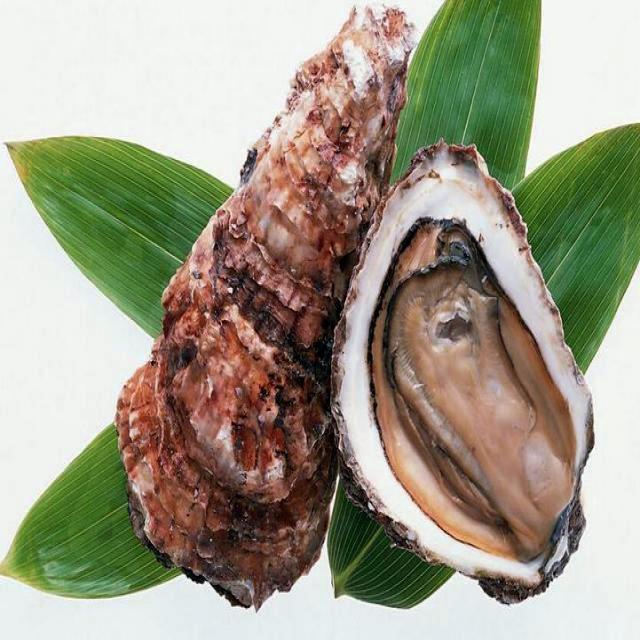Oyster-Closed: (120, 0, 416, 608)
Oyster-Open: (324, 138, 594, 604)
